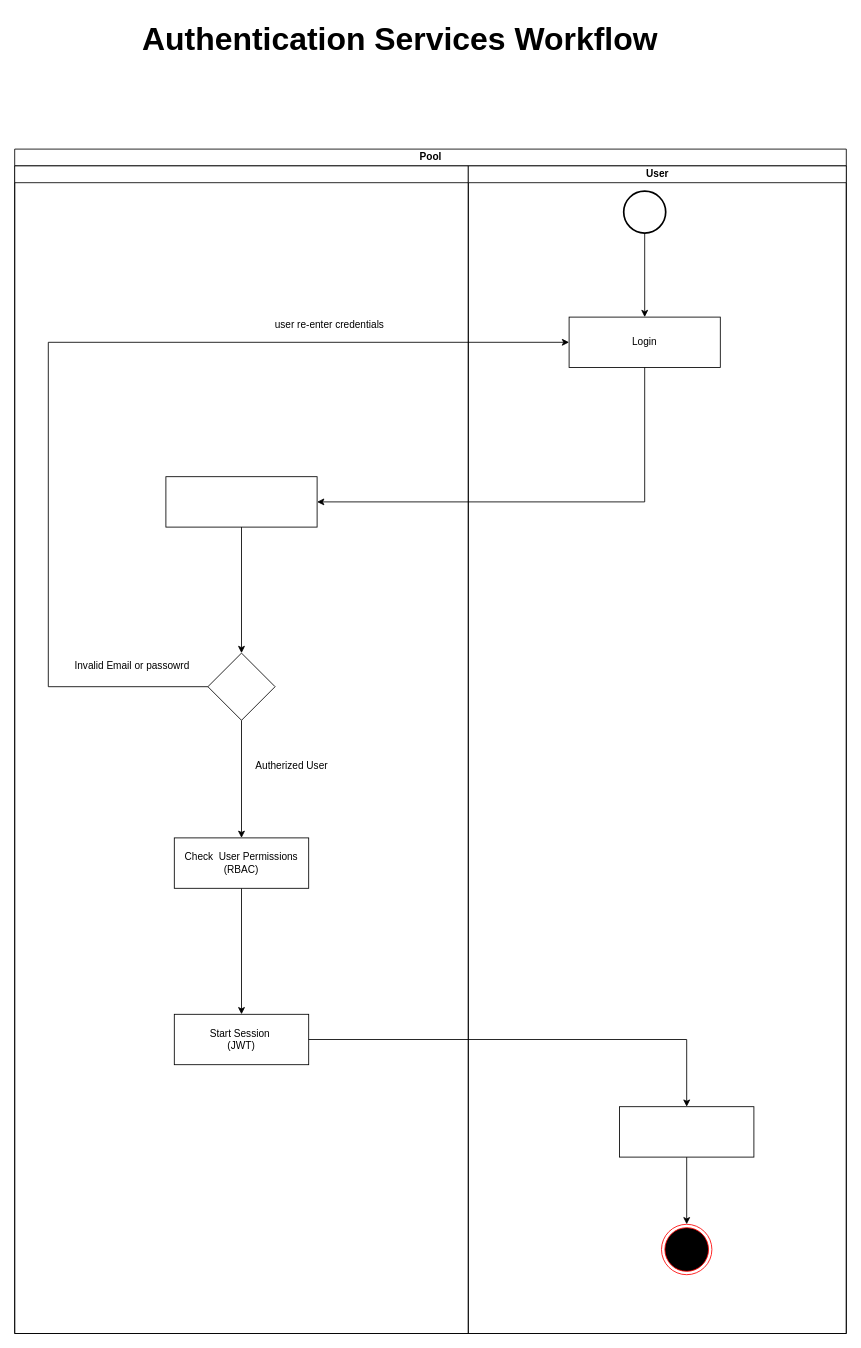
The diagram is 861 pixels wide and 1348 high, and some of its shapes have lost their labels. The box of each missing label's shape, as (x1, y1, x2, y2) in pixels:
Server: (14, 165, 468, 1334)
User Dashboard: (619, 1106, 754, 1157)
validates email and password: (165, 476, 317, 527)
